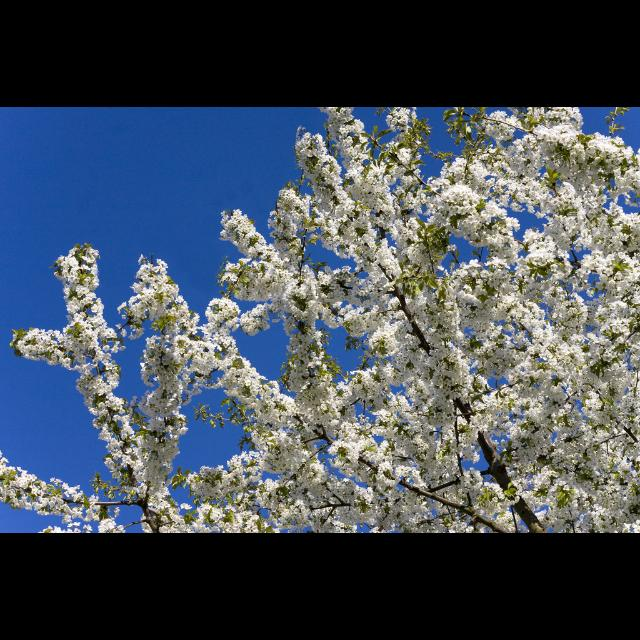Flower: (1, 108, 640, 532), (116, 525, 124, 531)
